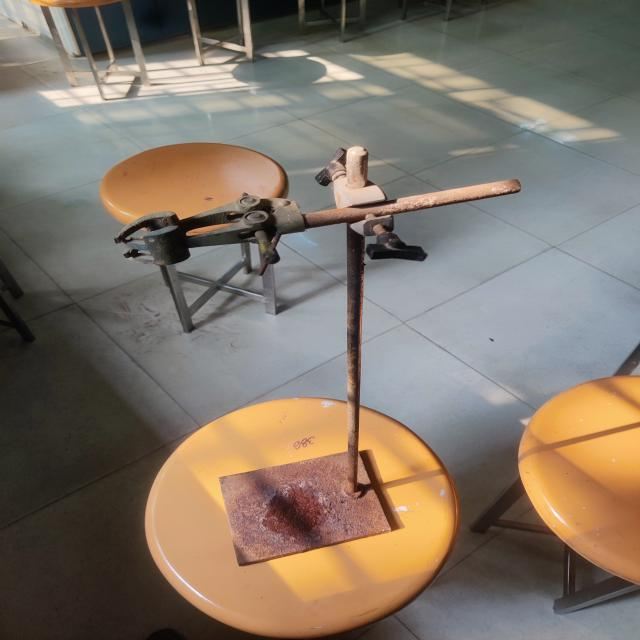Burette_Stands: (107, 122, 552, 605)
